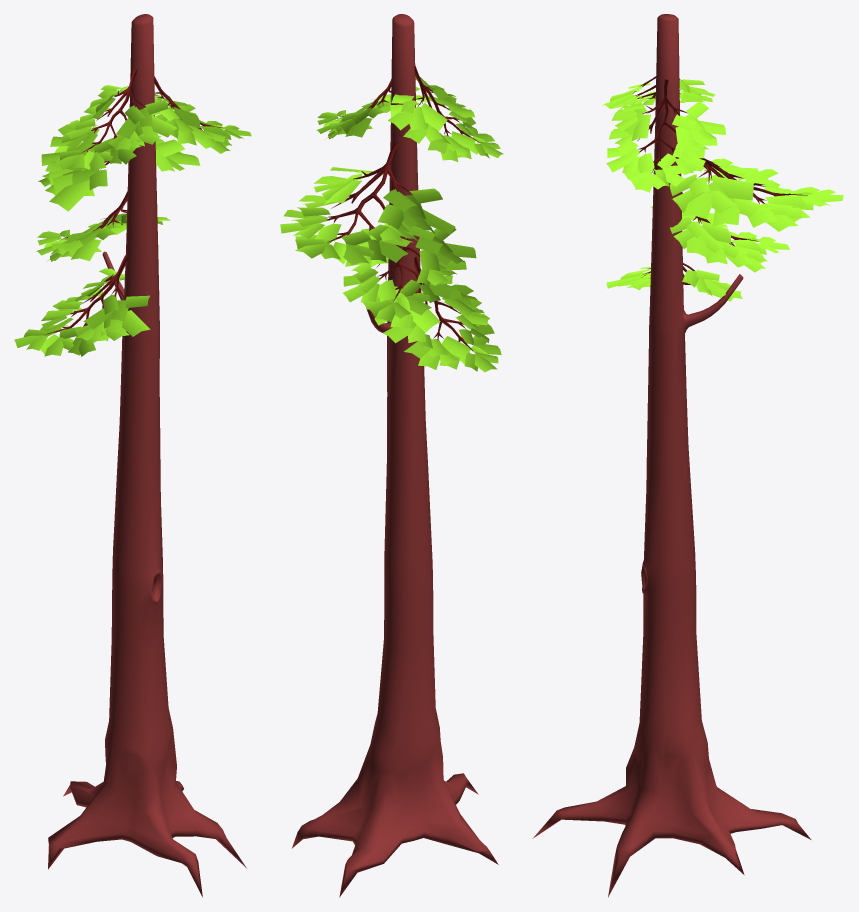
File: DeadTree_02.FBX
The picture shows the model from 3 angles, left to right: view 1: azimuth 30°, elevation 25°; view 2: azimuth 150°, elevation 25°; view 3: azimuth 270°, elevation 25°; orthographic projection.
Visible parts, largest first — view 1: DeadTree_02; view 2: DeadTree_02; view 3: DeadTree_02.
Part boxes in pixels (x1=…): DeadTree_02: x1=14, y1=14, x2=251, y2=897; DeadTree_02: x1=280, y1=14, x2=503, y2=897; DeadTree_02: x1=532, y1=14, x2=843, y2=897.
Size of the model in its own units: 4.9 by 19.29 by 6.45.
